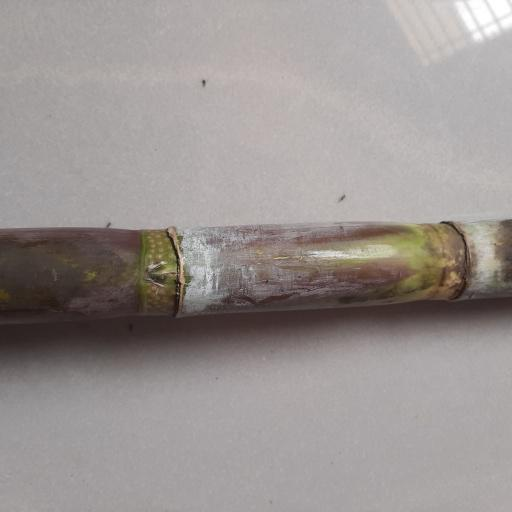Bud: (146, 260, 177, 286)
